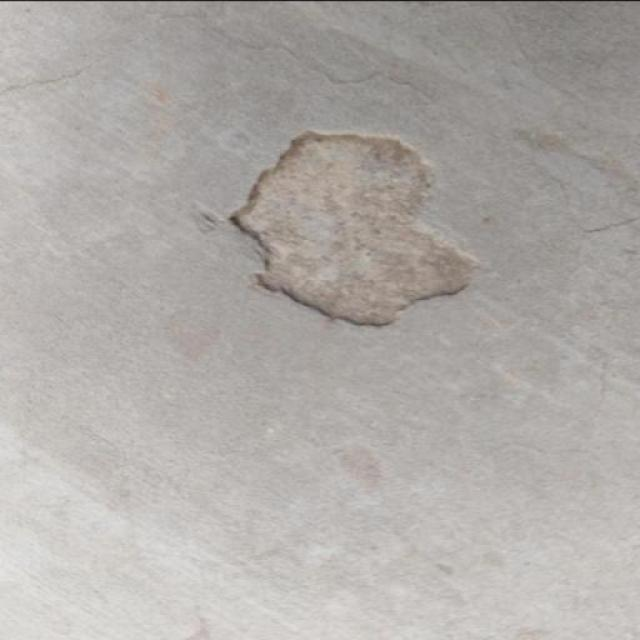D10: (196, 129, 478, 326)
